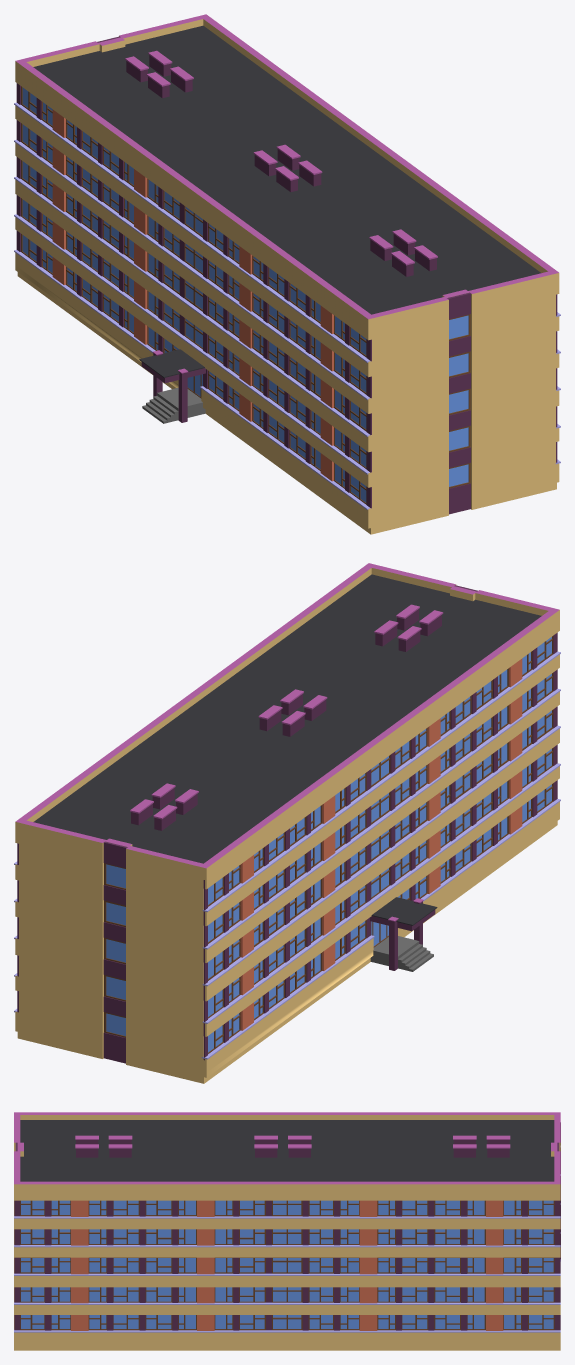
File: MainBuilding.fbx
3 views of the same model, one above another, from view 1: azimuth 30°, elevation 25°; view 2: azimuth 150°, elevation 25°; view 3: azimuth 270°, elevation 25° (orthographic). The views are drawn at different scales.
Parts seen in each view (by area): view 1: Building12_a_LP_LOD0; view 2: Building12_a_LP_LOD0; view 3: Building12_a_LP_LOD0.
Boxes of the visible parts, x1,y1,x2,y2 form: Building12_a_LP_LOD0: (14,14,560,534); Building12_a_LP_LOD0: (14,563,560,1083); Building12_a_LP_LOD0: (14,1112,560,1350).
Size of the model in its own units: 1918 by 1755 by 5030.
